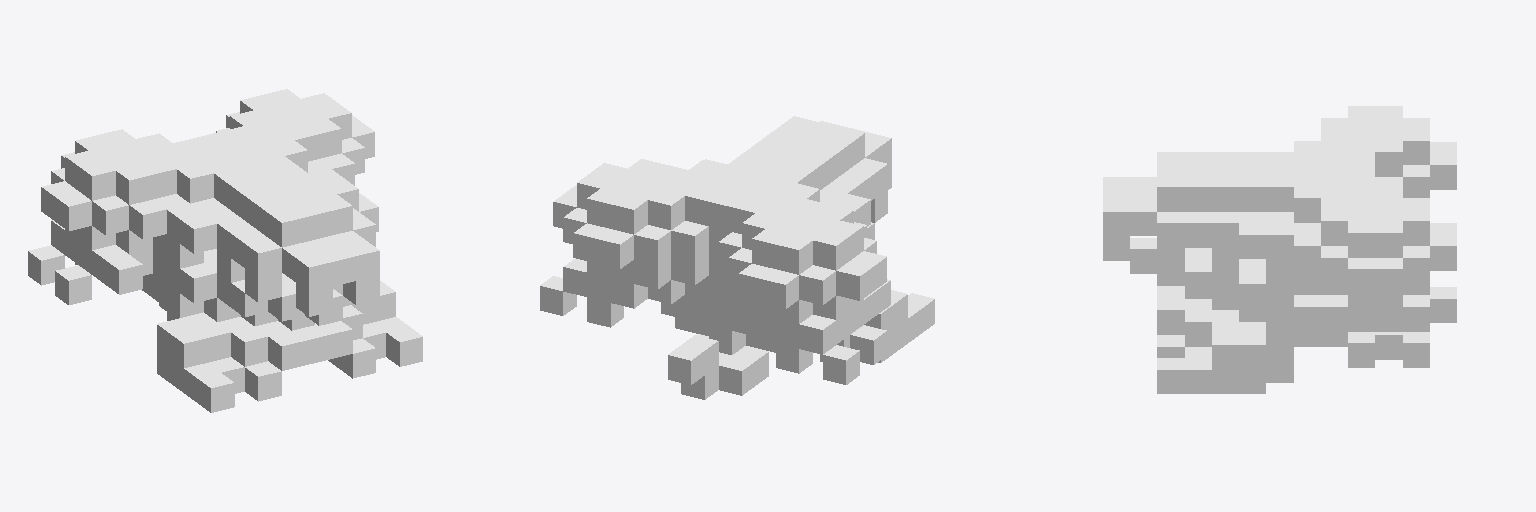
File: FygarSquishCardinal.obj
3 views of the same model, side by side, from view 1: azimuth 30°, elevation 25°; view 2: azimuth 150°, elevation 25°; view 3: azimuth 270°, elevation 25° (orthographic).
Parts seen in each view (by area): view 1: Fygar; view 2: Fygar; view 3: Fygar.
Boxes of the visible parts, <box> form: Fygar: <box>28,89,422,412</box>; Fygar: <box>540,116,934,399</box>; Fygar: <box>1103,106,1456,393</box>.
Size of the model in its own units: 1.3 by 0.7 by 1.3.